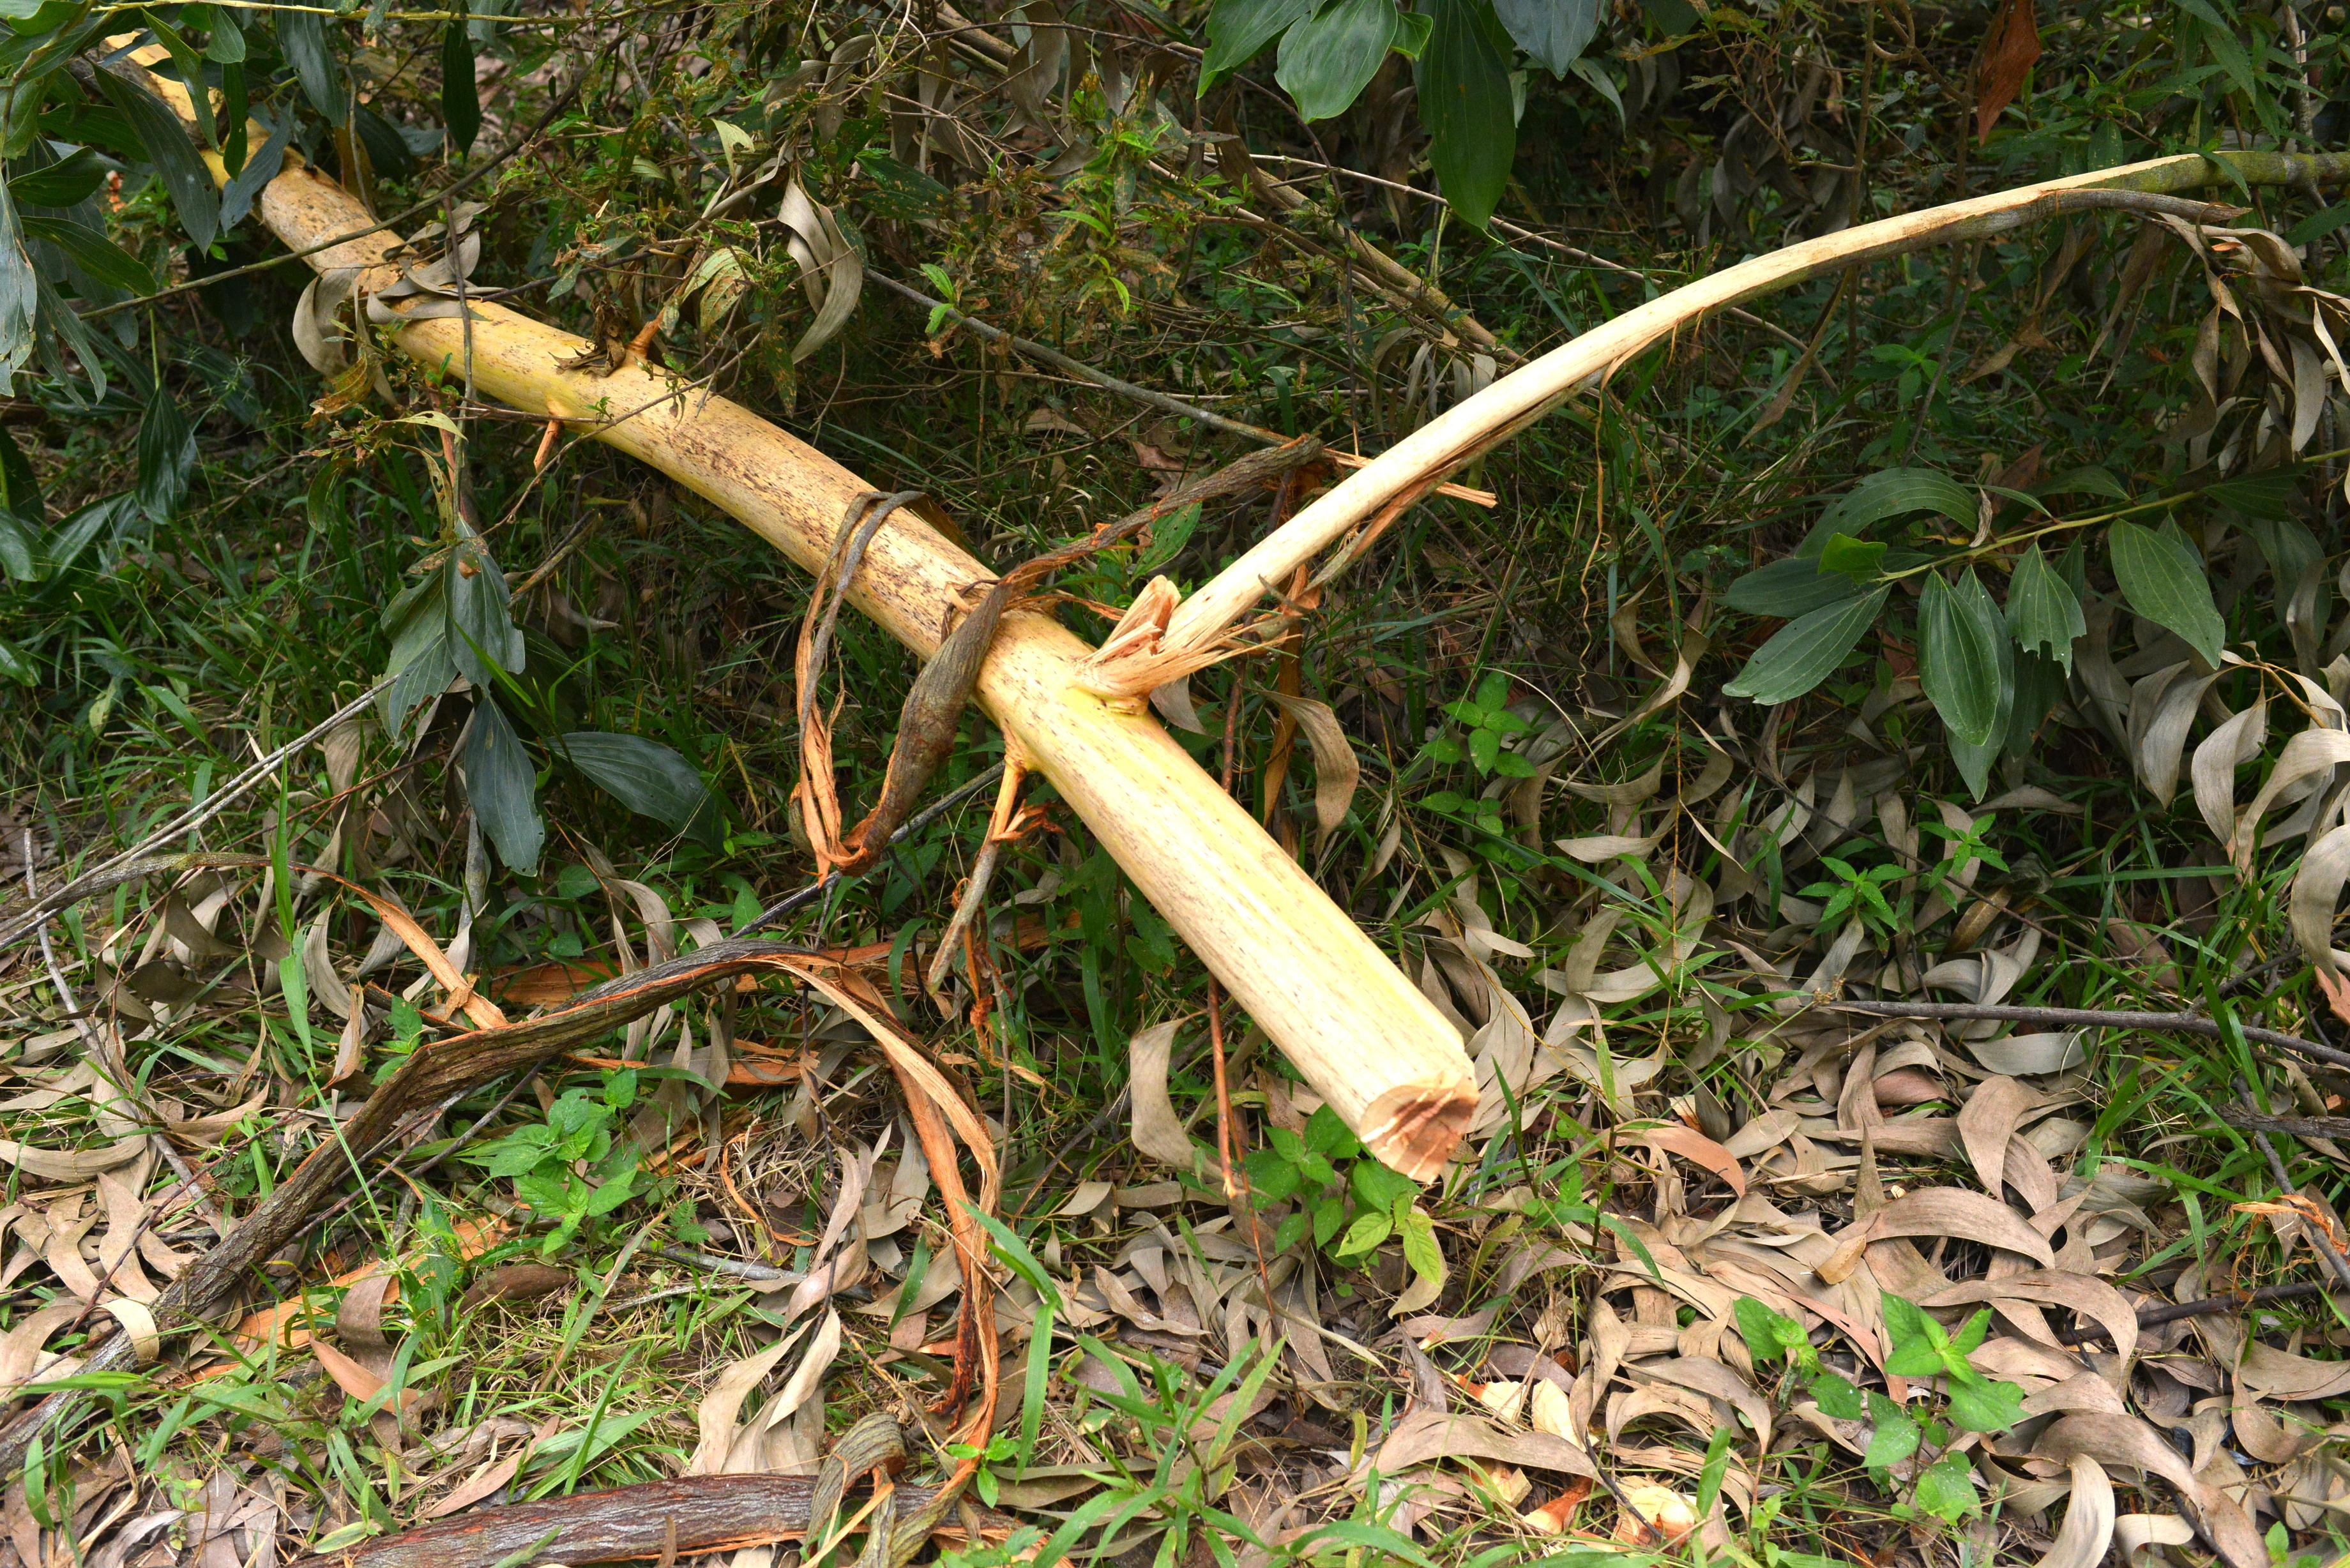Mammals Attack: (80, 0, 2252, 1197)
